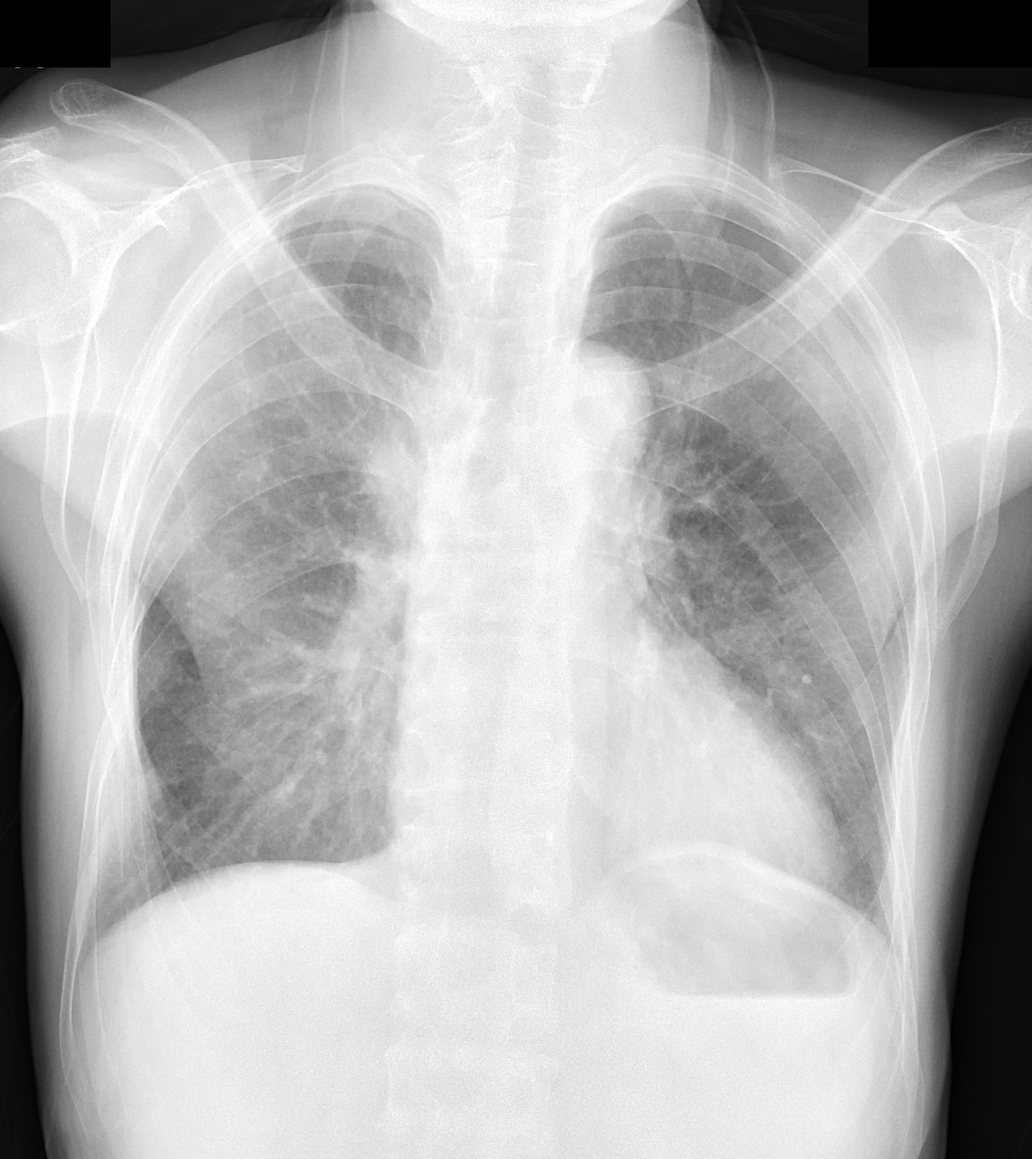Aortic enlargement: (543, 336, 658, 498)
Cardiomegaly: (380, 718, 849, 892)
Pulmonary fibrosis: (194, 246, 418, 580)
